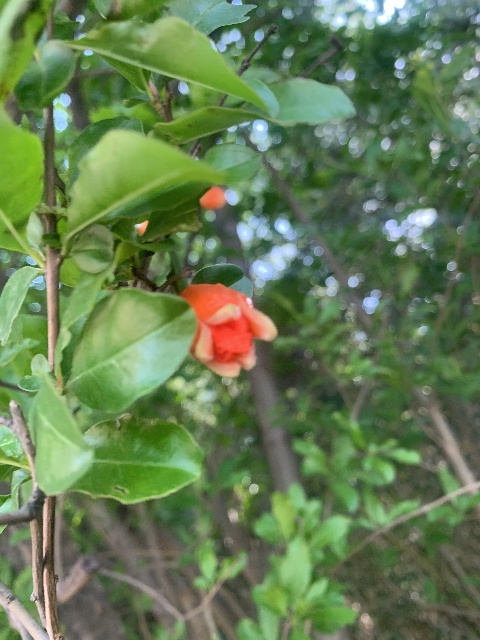flower: (178, 282, 277, 377)
